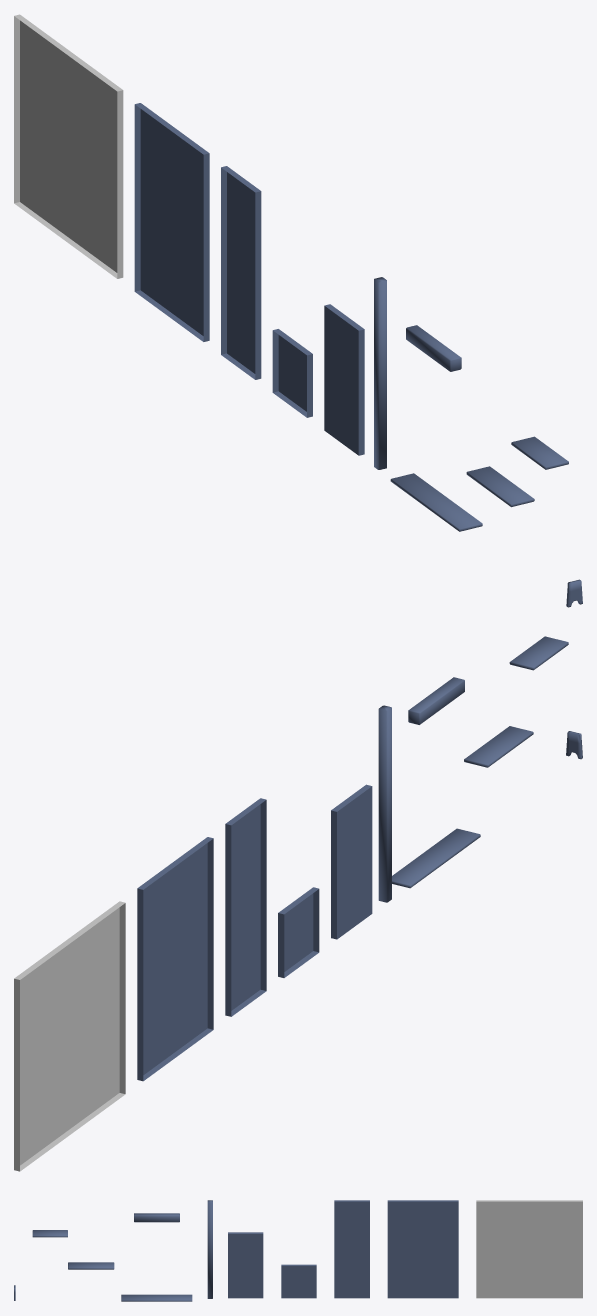
Rendered from blocks_walls.fbx.
3 renders of one model, top to bottom at view 1: azimuth 30°, elevation 25°; view 2: azimuth 150°, elevation 25°; view 3: azimuth 270°, elevation 25°, orthographic. The views are drawn at different scales.
Visible parts, largest first — view 1: module_block 3 by 3_ruv, module_block 1 by 2, module_block 1 by 3, module_door_low, module_block 1 by 1, module_link_3_vertical, module_shelf_L, module_shelf_M, module_link_1_horizontal, module_shelf_S; view 2: module_block 3 by 3_ruv, module_block 1 by 2, module_block 1 by 3, module_door_low, module_block 1 by 1, module_link_3_vertical, module_shelf_L, module_shelf_M, module_link_1_horizontal, module_shelf_S; view 3: module_block 3 by 3_ruv, module_block 1 by 2, module_block 1 by 3, module_door_low, module_block 1 by 1, module_link_3_vertical, module_shelf_L, module_link_1_horizontal, module_shelf_M, module_shelf_S.
Part boxes in pixels (<box>): module_block 3 by 3_ruv: <box>14,14,123,278</box>; module_block 1 by 2: <box>134,103,209,341</box>; module_block 1 by 3: <box>221,166,261,379</box>; module_door_low: <box>324,304,364,455</box>; module_block 1 by 1: <box>272,329,312,417</box>; module_link_3_vertical: <box>374,277,386,469</box>; module_shelf_L: <box>390,473,482,531</box>; module_shelf_M: <box>466,466,534,507</box>; module_link_1_horizontal: <box>406,325,461,371</box>; module_shelf_S: <box>511,436,568,469</box>; module_block 3 by 3_ruv: <box>14,901,125,1171</box>; module_block 1 by 2: <box>137,837,213,1081</box>; module_block 1 by 3: <box>225,798,266,1016</box>; module_door_low: <box>331,784,372,939</box>; module_block 1 by 1: <box>278,887,319,977</box>; module_link_3_vertical: <box>378,705,391,902</box>; module_shelf_L: <box>392,828,480,888</box>; module_shelf_M: <box>464,726,533,767</box>; module_link_1_horizontal: <box>408,677,464,724</box>; module_shelf_S: <box>509,636,568,670</box>; module_block 3 by 3_ruv: <box>476,1200,582,1298</box>; module_block 1 by 2: <box>387,1200,458,1298</box>; module_block 1 by 3: <box>334,1200,369,1298</box>; module_door_low: <box>228,1232,263,1298</box>; module_block 1 by 1: <box>281,1264,316,1298</box>; module_link_3_vertical: <box>207,1200,212,1298</box>; module_shelf_L: <box>121,1294,192,1301</box>; module_link_1_horizontal: <box>134,1213,179,1222</box>; module_shelf_M: <box>68,1262,114,1269</box>; module_shelf_S: <box>32,1230,67,1237</box>.
Size of the model in its own units: 80 by 600 by 3205.
